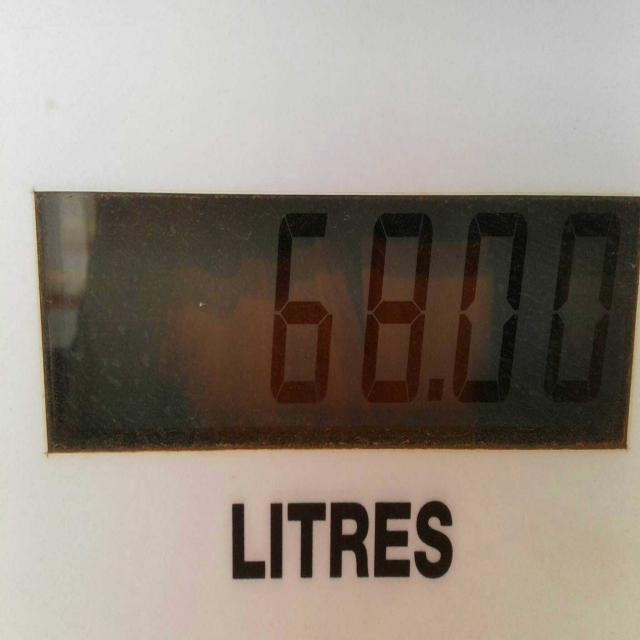.: (425, 378, 450, 403)
0: (454, 213, 532, 405), (546, 212, 622, 408)
6: (268, 209, 332, 401)
8: (362, 206, 431, 406)
screen: (33, 189, 640, 447)
